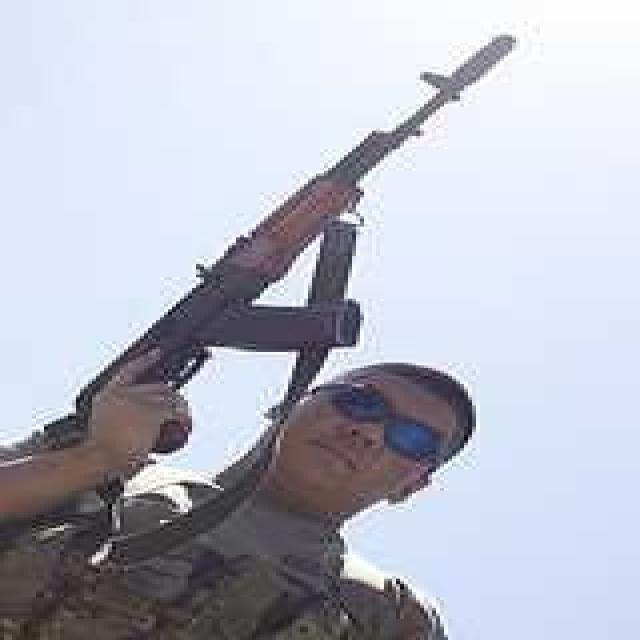Rifle: (2, 21, 532, 503)
